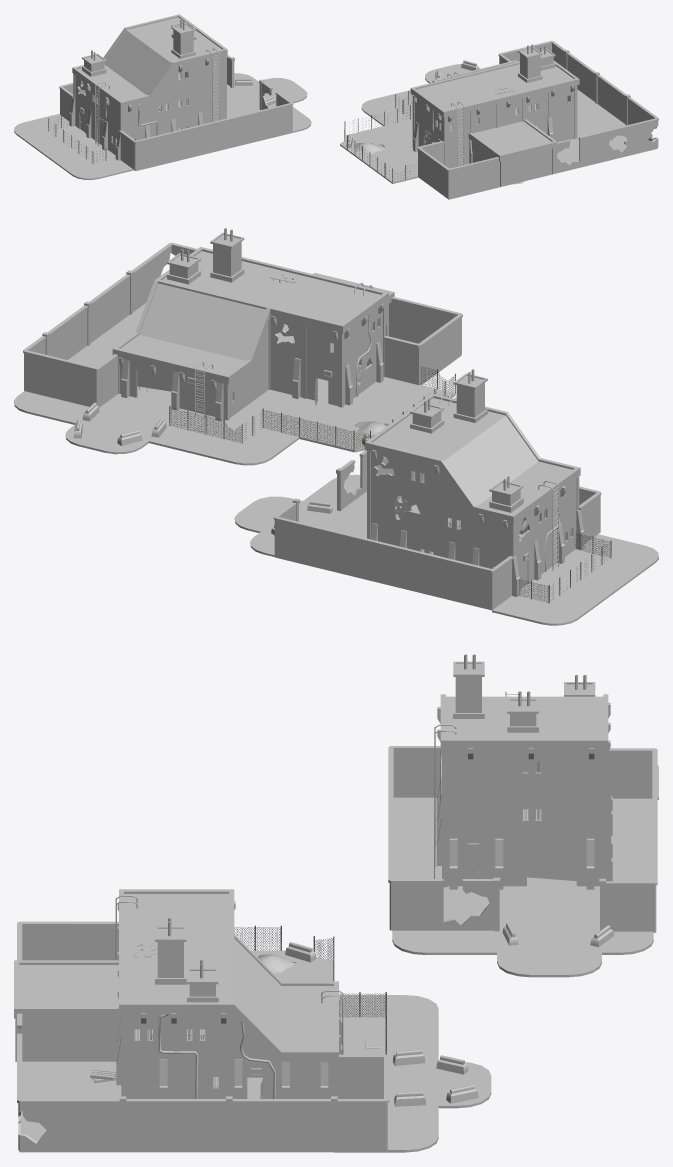
The model's file is buildings.fbx.
3 renders of one model, top to bottom at view 1: azimuth 30°, elevation 25°; view 2: azimuth 150°, elevation 25°; view 3: azimuth 270°, elevation 25°, orthographic. The views are drawn at different scales.
Parts seen in each view (by area): view 1: ceiling, wall1concrete_3, wall1window2_2, ceilingcorner_6, wall1concretecorner_2_2, floor4_4, floorlargehole_1, wall1_4, floor4_2_2, wall1window2, floor1_5, wall1concretecornerhole (+51 smaller); view 2: ceiling, wall1concretecorner_4, wall1window2_6, wall1concrete_7, wall1concrete, floor4_6, floor1_5, ceilingtriangle_3, wall1concretecorner_1, bigwallhole, wall1concretecorner, ceilingtriangle_1 (+61 smaller); view 3: ceiling, wall1window2_4, wall1window2_5, ceilingcorner_6, wall1concrete_3, wall1concrete_7_2, wall1concretecorner_4, wall1_3, floor4_8, floor4_2, floor4, walldoorlarge (+55 smaller).
Part boxes in pixels (x1,y1,x2,y2): ceiling: (72, 14, 227, 108); wall1concrete_3: (119, 92, 293, 170); wall1window2_2: (123, 56, 224, 140); ceilingcorner_6: (468, 119, 557, 161); wall1concretecorner_2_2: (432, 158, 475, 198); floor4_4: (362, 148, 418, 183); floorlargehole_1: (340, 126, 412, 161); wall1_4: (503, 149, 551, 185); floor4_2_2: (577, 89, 625, 137); wall1window2: (90, 87, 119, 154); floor1_5: (48, 115, 115, 164); wall1concretecornerhole: (631, 107, 658, 153); ceiling: (365, 393, 580, 524); wall1concretecorner_4: (23, 336, 118, 407); wall1window2_6: (440, 501, 509, 568); wall1concrete_7: (383, 543, 456, 601); wall1concrete: (310, 525, 384, 583); floor4_6: (229, 389, 339, 436); floor1_5: (518, 533, 611, 603); ceilingtriangle_3: (212, 301, 270, 366); wall1concretecorner_1: (383, 329, 441, 385); bigwallhole: (371, 484, 440, 538); wall1concretecorner: (455, 555, 515, 610); ceilingtriangle_1: (136, 280, 193, 343); ceiling: (440, 694, 608, 750); wall1window2_4: (447, 791, 602, 838); wall1window2_5: (447, 750, 602, 791); ceilingcorner_6: (14, 960, 120, 1018); wall1concrete_3: (388, 746, 443, 930); wall1concrete_7_2: (232, 1099, 331, 1150); wall1concretecorner_4: (336, 1054, 389, 1150); wall1_3: (21, 1018, 120, 1061); floor4_8: (19, 1061, 123, 1152); floor4_2: (549, 798, 652, 886); floor4: (444, 877, 549, 930); walldoorlarge: (503, 838, 602, 886).
Bounding box in the file's own units: 7180 × 1736 × 4920.
